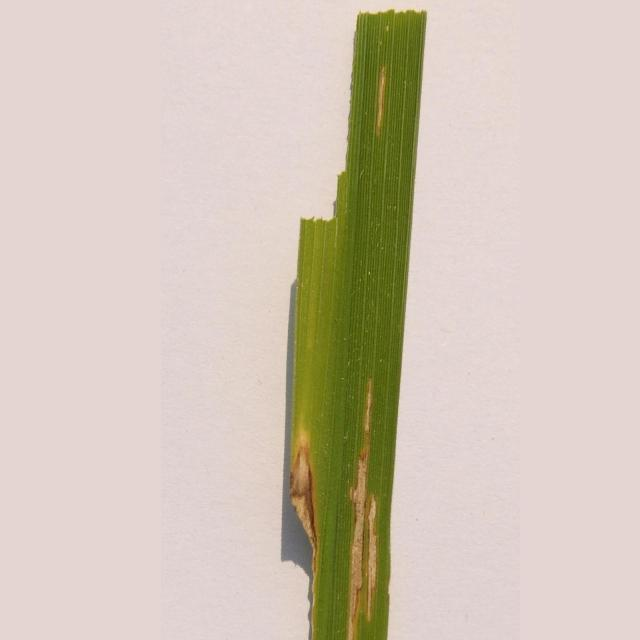leaf blight: (336, 381, 383, 640), (287, 437, 322, 640), (359, 41, 395, 140)
